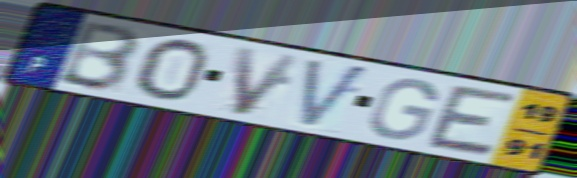B: (53, 19, 144, 94)
E: (422, 82, 522, 160)
G: (365, 76, 442, 141)
O: (131, 37, 211, 102)
V: (297, 56, 374, 132), (230, 44, 306, 118)
